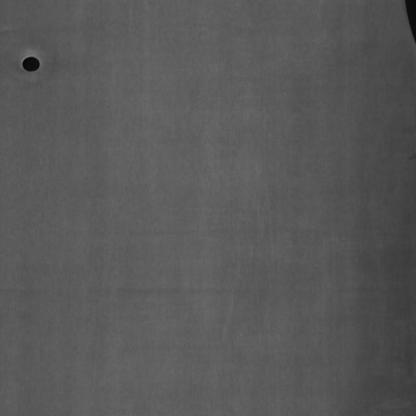crescent_gap: (402, 2, 416, 44)
punching_hole: (19, 47, 44, 79)
